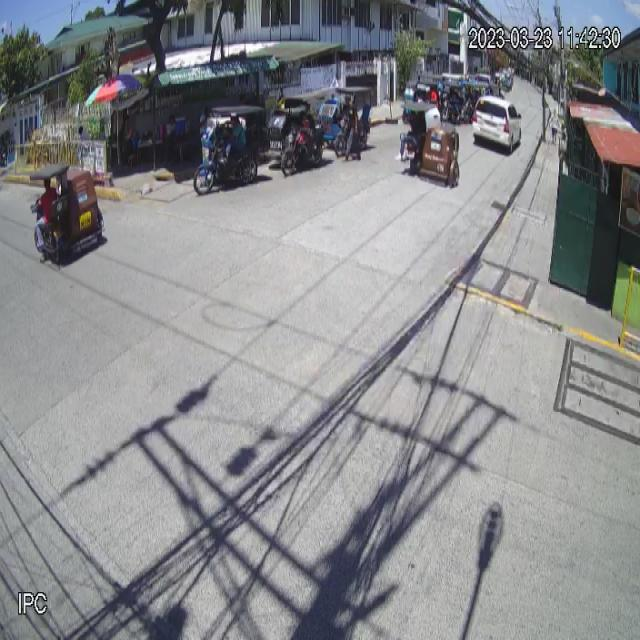Car: (470, 94, 522, 155)
Tricycle: (29, 164, 106, 266), (400, 96, 462, 185)
